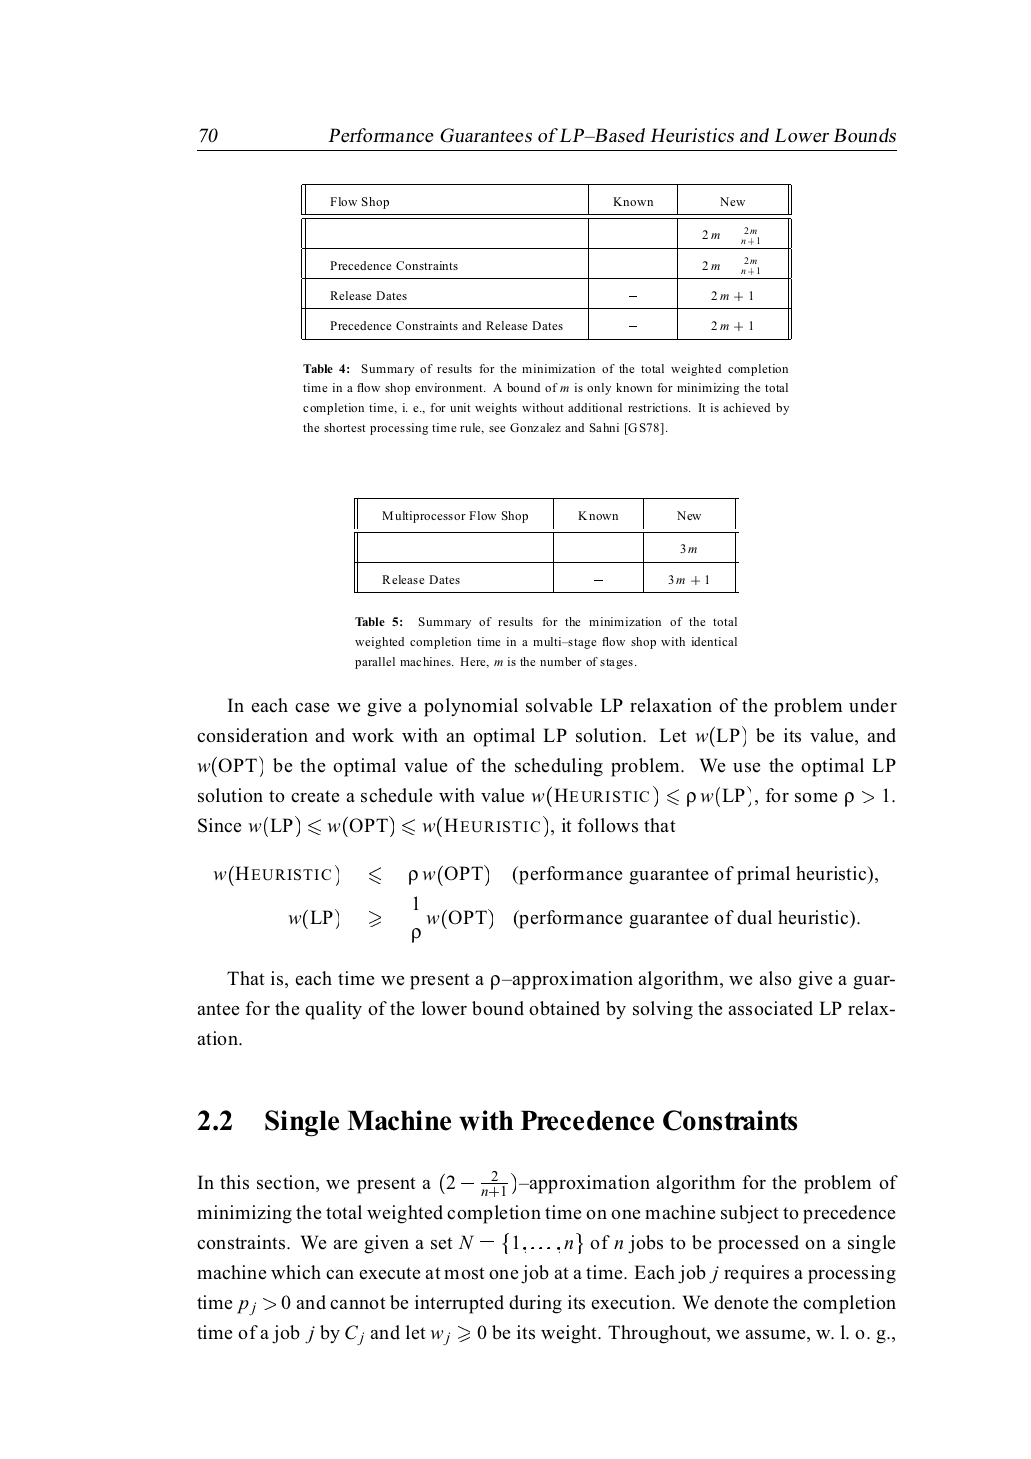Table: (301, 182, 791, 340), (354, 497, 738, 593)
formula: (288, 895, 859, 943), (213, 864, 877, 886)
